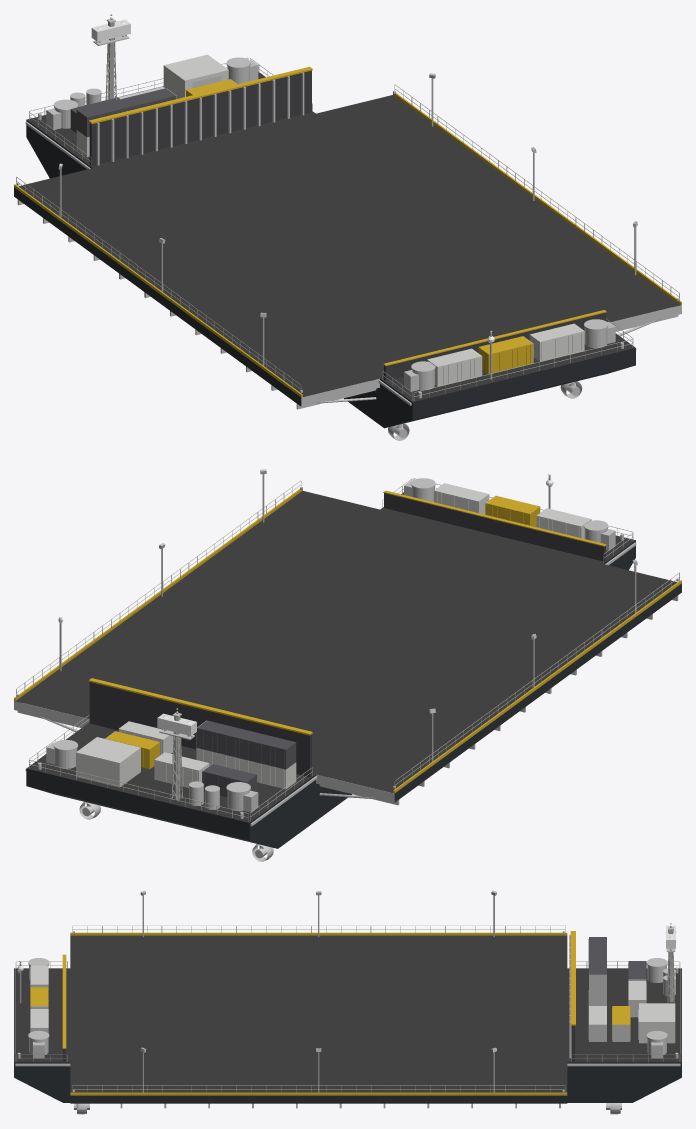
Rendered from ocisly.glb.
3 renders of one model, top to bottom at view 1: azimuth 30°, elevation 25°; view 2: azimuth 150°, elevation 25°; view 3: azimuth 270°, elevation 25°, orthographic. The views are drawn at different scales.
Parts seen in each view (by area): view 1: SHIP_L0_mesh, SHIP_L1_mesh, SHIP_L2_mesh; view 2: SHIP_L0_mesh, SHIP_L1_mesh, SHIP_L2_mesh; view 3: SHIP_L0_mesh, SHIP_L1_mesh, SHIP_L2_mesh.
Part boxes in pixels (left/top/right/bottom): SHIP_L0_mesh: left=14, top=14, right=681, bottom=440; SHIP_L1_mesh: left=14, top=22, right=681, bottom=405; SHIP_L2_mesh: left=17, top=19, right=678, bottom=392; SHIP_L0_mesh: left=14, top=469, right=681, bottom=861; SHIP_L1_mesh: left=14, top=474, right=681, bottom=811; SHIP_L2_mesh: left=17, top=486, right=678, bottom=810; SHIP_L0_mesh: left=14, top=890, right=681, bottom=1114; SHIP_L1_mesh: left=17, top=895, right=675, bottom=1095; SHIP_L2_mesh: left=31, top=925, right=675, bottom=1092.
Bounding box in the file's own units: 52 × 21.22 × 91.4.
